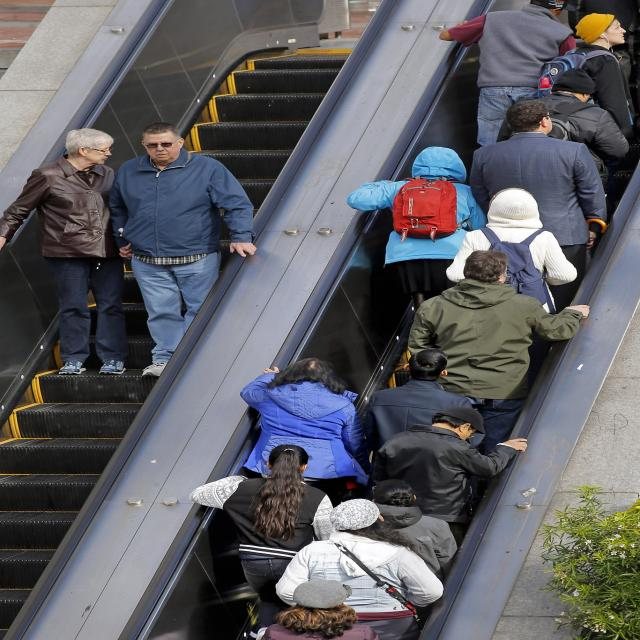body: (104, 118, 262, 380), (408, 249, 592, 456), (0, 126, 135, 375), (186, 440, 346, 640), (468, 97, 609, 310), (444, 186, 580, 392), (270, 496, 450, 640), (344, 144, 487, 306), (438, 0, 579, 150), (239, 357, 373, 506), (495, 66, 630, 210), (367, 405, 528, 525), (536, 10, 640, 144), (361, 347, 487, 451), (365, 478, 459, 587), (260, 579, 380, 640), (614, 0, 639, 84), (564, 0, 612, 39)
